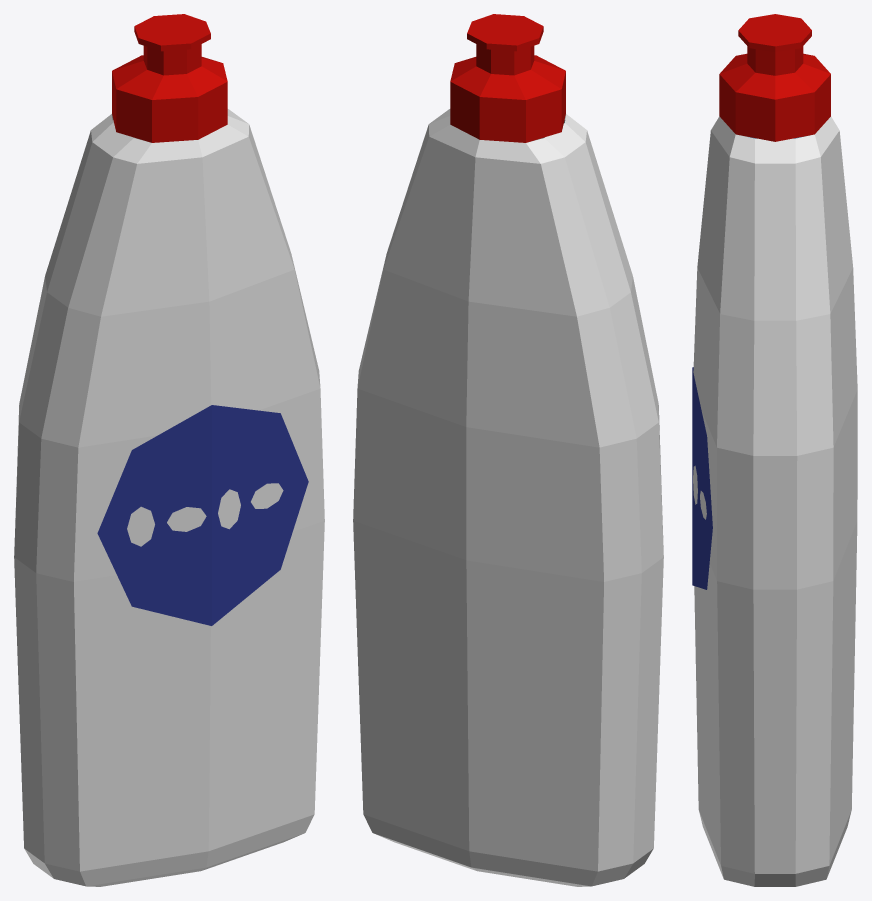
File: Ma_Detergent_Dish_2.fbx
3 views of the same model, side by side, from view 1: azimuth 30°, elevation 25°; view 2: azimuth 150°, elevation 25°; view 3: azimuth 270°, elevation 25° (orthographic).
Parts seen in each view (by area): view 1: Ma_Detergent_Dish_2; view 2: Ma_Detergent_Dish_2; view 3: Ma_Detergent_Dish_2.
Part boxes in pixels (left/top/right/bottom): Ma_Detergent_Dish_2: left=14, top=14, right=324, bottom=886; Ma_Detergent_Dish_2: left=353, top=14, right=663, bottom=886; Ma_Detergent_Dish_2: left=692, top=14, right=857, bottom=886.
Bounding box in the file's own units: 77.03 × 38.89 × 209.
